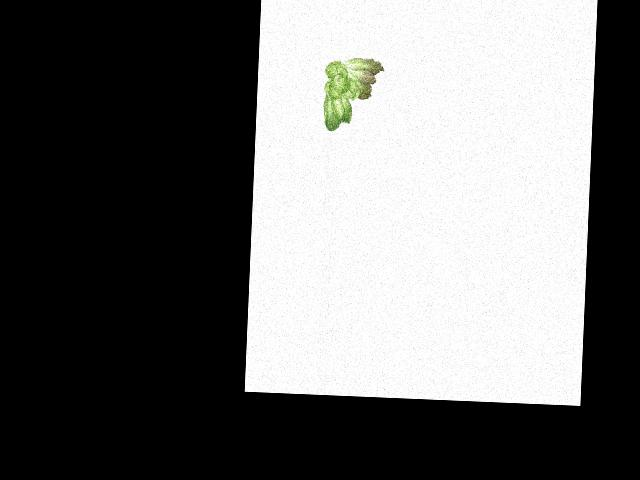lettuce: (318, 55, 388, 134)
